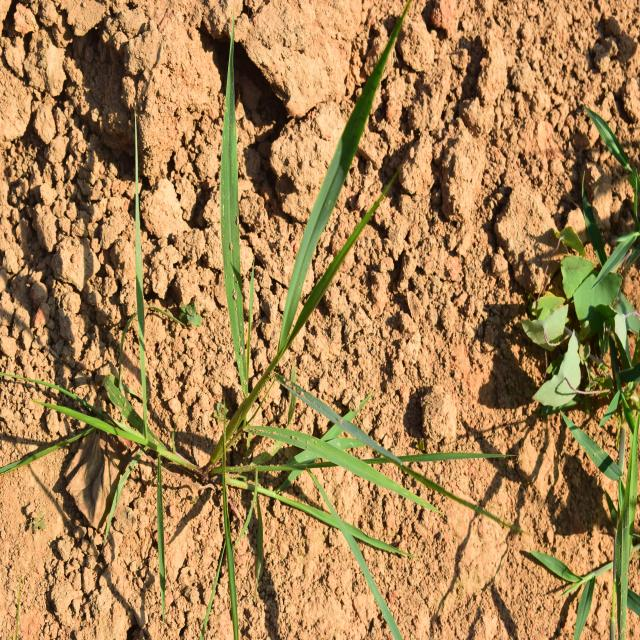green_foxtail: (218, 121, 433, 579)
